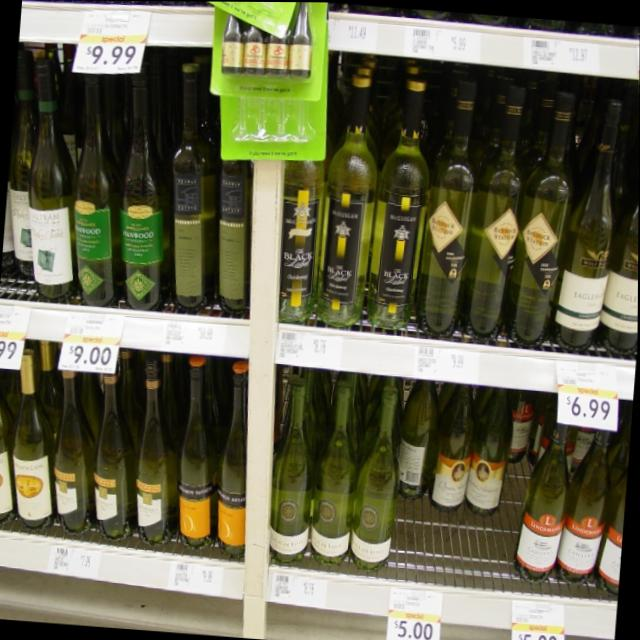q175: (557, 422, 619, 577), (516, 410, 569, 575)
